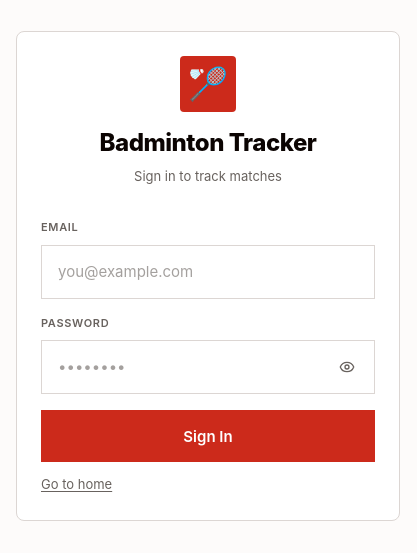
Scenario: LoginPage › displays error message when sign in fails
The image size is (417, 553).
In the field with placeholder "you@example.com": (208, 272) [41,245,375,299], type "test@example.com"
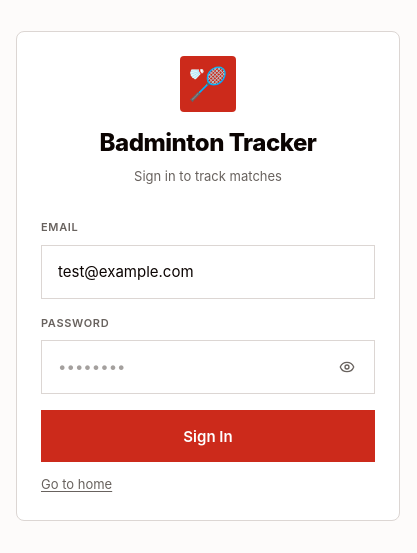
In the password field with placeholder "••••••••": (208, 367) [41,340,375,394], type "wrongpassword"
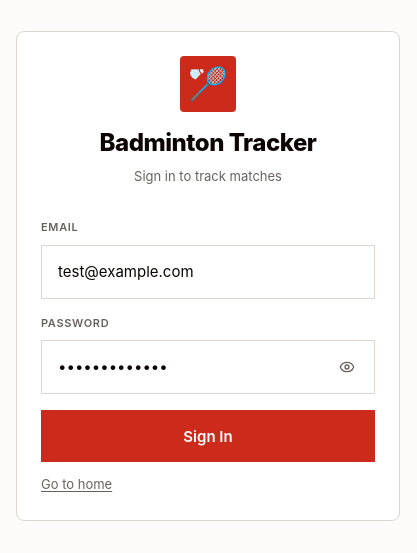
Click the button "Sign In": (208, 436) [41,410,375,462]
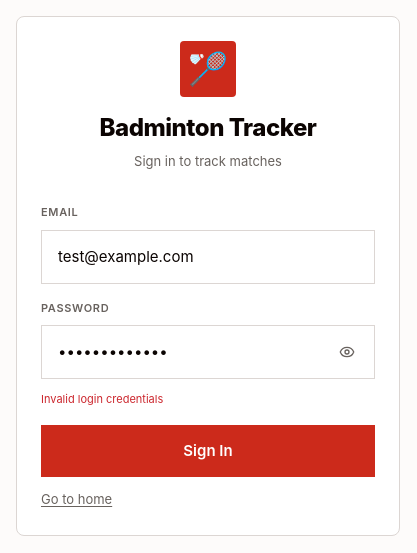
Expected: the text "Invalid login credentials" is shown, [41,392,163,406]
